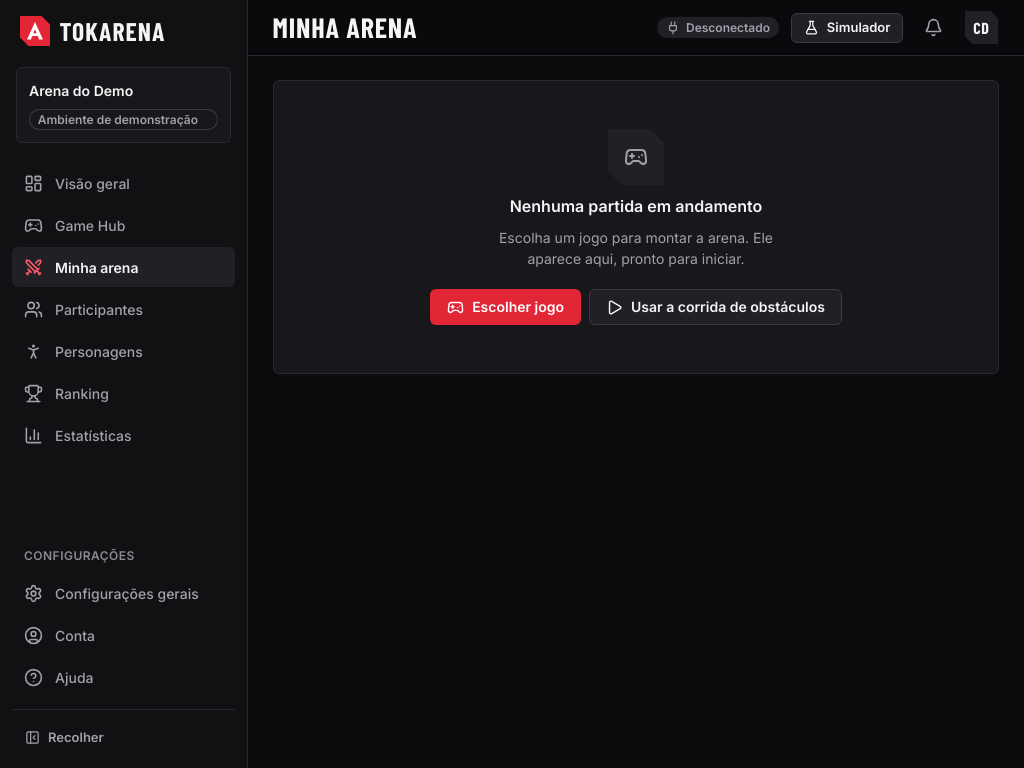
Scenario: simulador de eventos › comentário com !entrar coloca o usuário na fila da arena
Later steps or results of the test are not shown.
Click the button "Usar a corrida de obstáculos" at x=715, y=307, box [589,289,842,325]
(page scrolled)
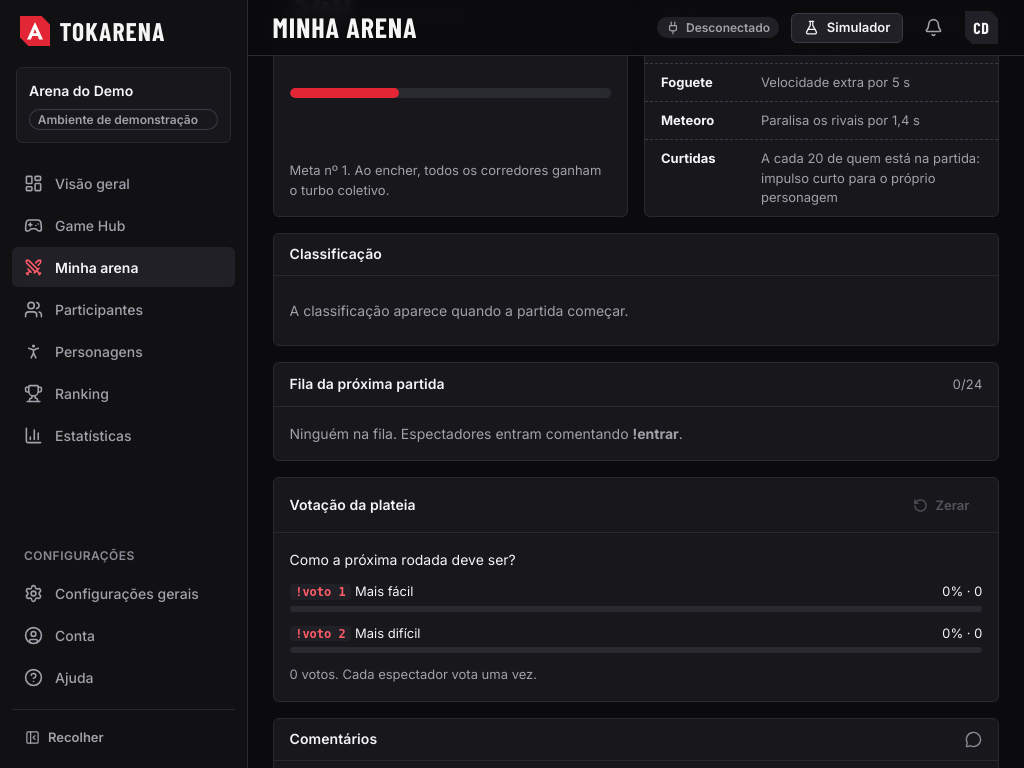
Result: the heading "Fila da próxima partida" is shown at [290,376,445,392]
